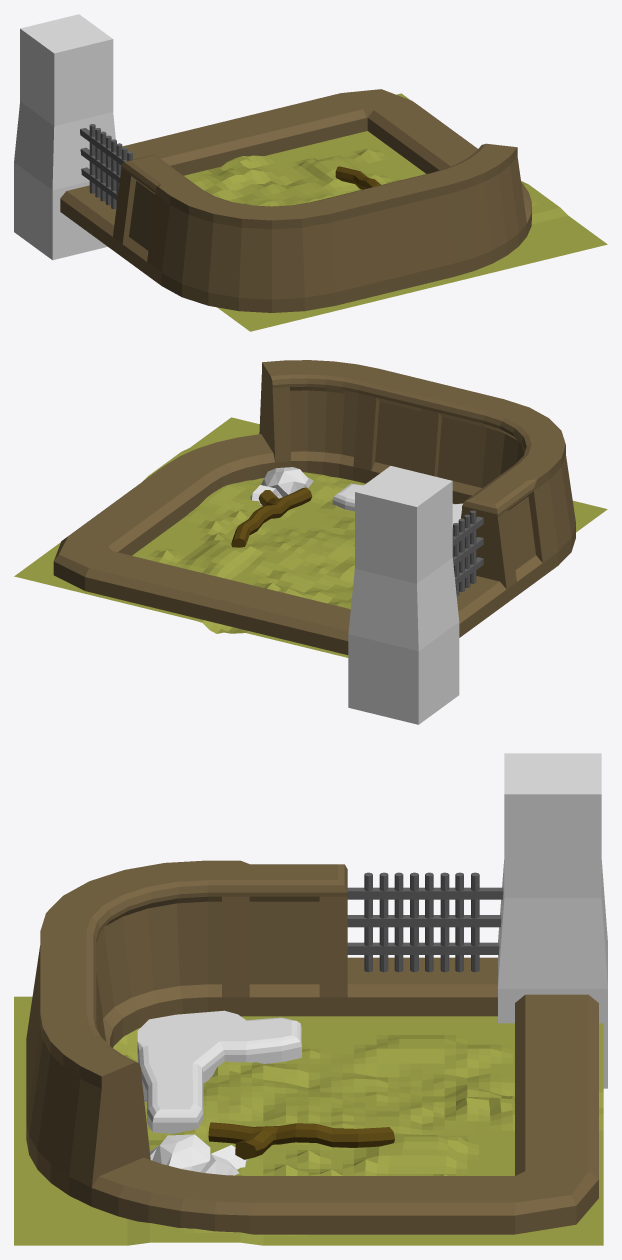
File: Kandang Singa.fbx
The picture shows the model from 3 angles, top to bottom: view 1: azimuth 30°, elevation 25°; view 2: azimuth 150°, elevation 25°; view 3: azimuth 270°, elevation 25°; orthographic projection. The views are drawn at different scales.
Visible parts, largest first — view 1: Wall.002, Wall.001, Ground.001, Cage.001, Log; view 2: Wall.002, Wall.001, Ground.001, Cage.001, Log, Stone.003, Stone S; view 3: Wall.002, Ground.001, Wall.001, Stone S, Cage.001, Log, Stone.003.
Boxes of the visible parts, bbox=[...] form: Wall.002: bbox=[60, 89, 531, 312]; Wall.001: bbox=[14, 14, 115, 260]; Ground.001: bbox=[184, 93, 607, 331]; Cage.001: bbox=[80, 124, 132, 209]; Log: bbox=[335, 166, 380, 189]; Wall.002: bbox=[53, 360, 575, 654]; Wall.001: bbox=[348, 466, 459, 724]; Ground.001: bbox=[14, 417, 607, 657]; Cage.001: bbox=[452, 510, 483, 596]; Log: bbox=[231, 487, 312, 547]; Stone.003: bbox=[250, 467, 313, 505]; Stone S: bbox=[332, 483, 463, 526]; Wall.002: bbox=[26, 860, 598, 1234]; Ground.001: bbox=[14, 996, 603, 1245]; Wall.001: bbox=[498, 753, 607, 1088]; Stone S: bbox=[137, 1010, 301, 1133]; Cage.001: bbox=[347, 872, 503, 972]; Log: bbox=[208, 1122, 394, 1159]; Stone.003: bbox=[150, 1134, 247, 1175].
Size of the model in its own units: 2867 by 1450 by 2677.
